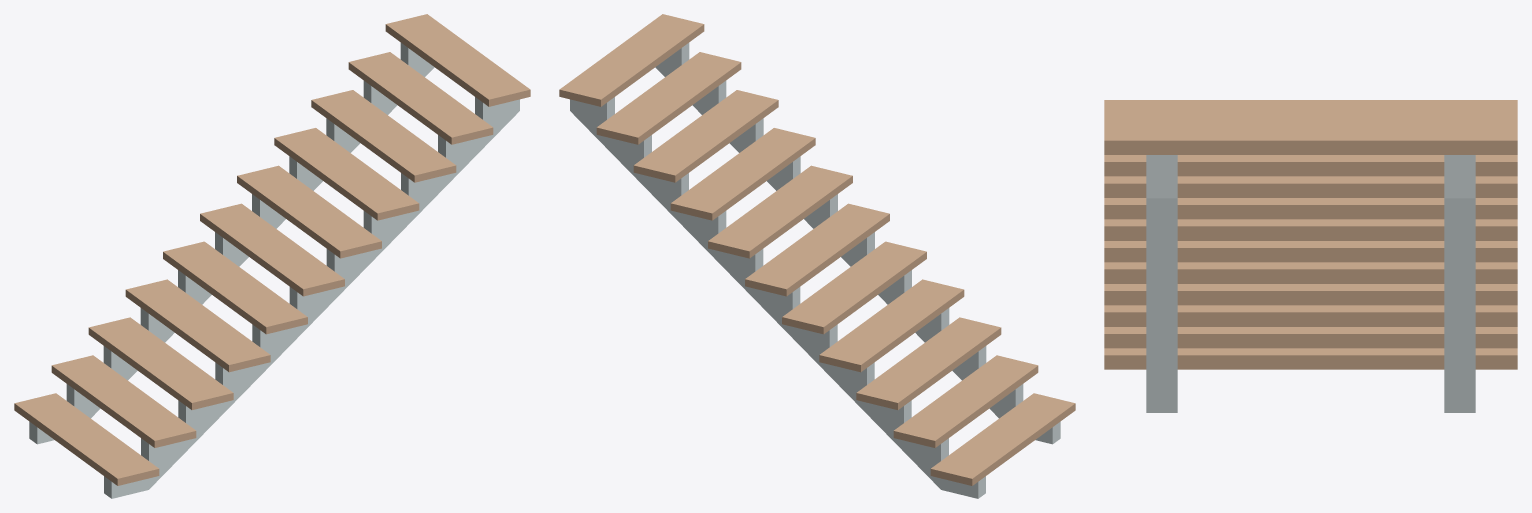
File: stairsOpen.glb
The picture shows the model from 3 angles, left to right: view 1: azimuth 30°, elevation 25°; view 2: azimuth 150°, elevation 25°; view 3: azimuth 270°, elevation 25°; orthographic projection. The views are drawn at different scales.
Visible parts, largest first — view 1: stairsOpen(Clone), Group (×2); view 2: stairsOpen(Clone), Group (×2); view 3: stairsOpen(Clone), Group (×2).
Boxes of the visible parts, x1,y1,x2,y2 form: stairsOpen(Clone): (14,14,530,485); Group (×2): (29,42,519,498); stairsOpen(Clone): (559,14,1075,485); Group (×2): (570,42,1060,498); stairsOpen(Clone): (1104,100,1517,369); Group (×2): (1146,155,1475,412).
Bounding box in the file's own units: 3.7 × 2.72 × 1.6.
Materials: 3 (3 with a texture image).
